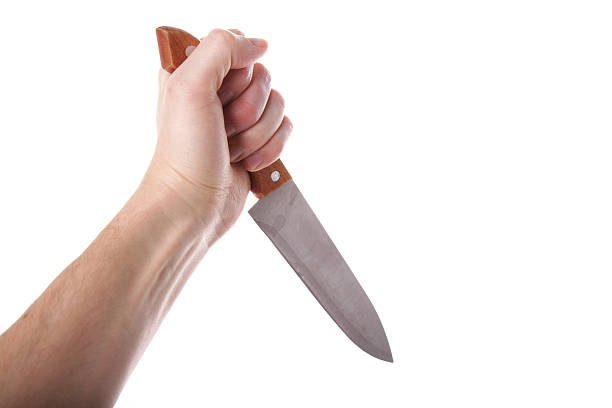knife: (155, 23, 395, 366)
